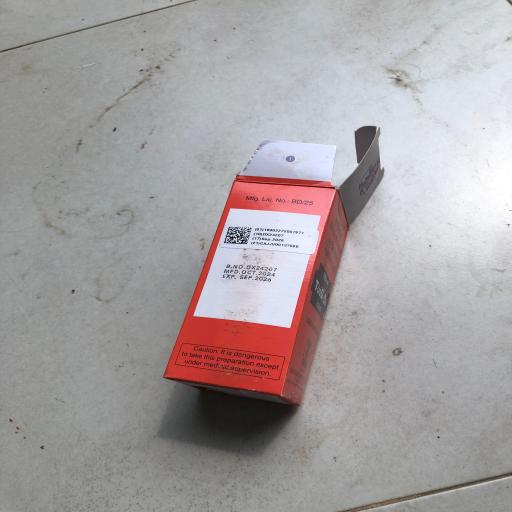waste: (144, 116, 412, 428)
